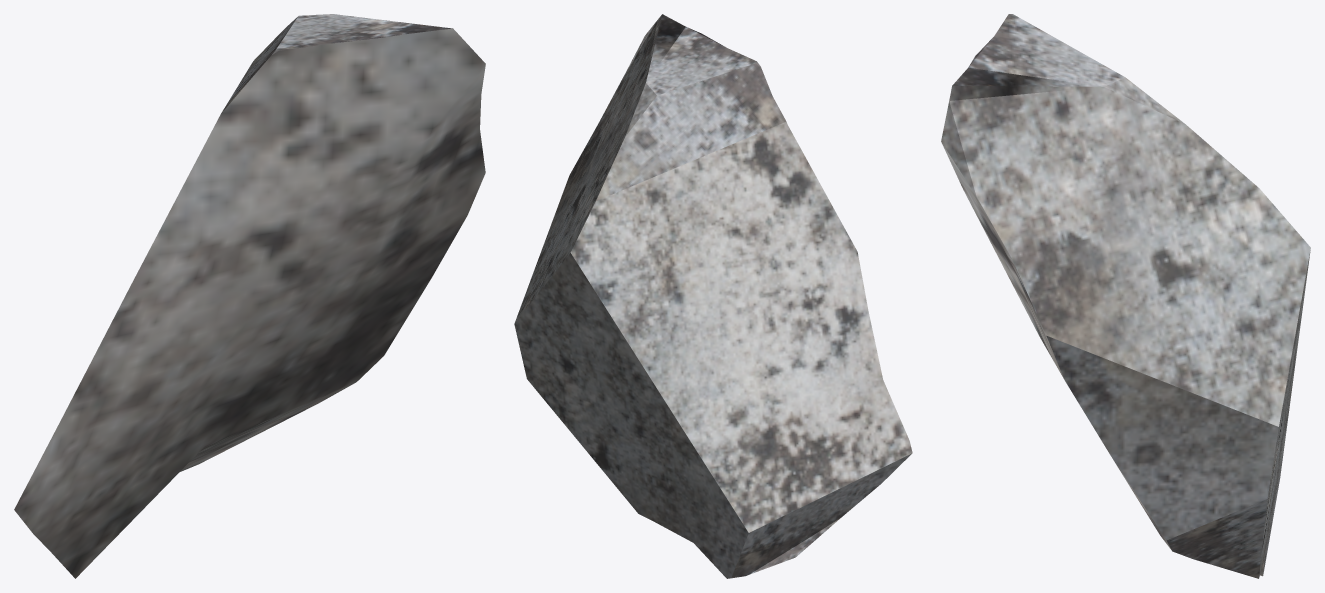
The model's file is Asteroid_Large_001_02_004_03_008.fbx.
3 renders of one model, left to right at view 1: azimuth 30°, elevation 25°; view 2: azimuth 150°, elevation 25°; view 3: azimuth 270°, elevation 25°, orthographic. The views are drawn at different scales.
Parts seen in each view (by area): view 1: Asteroid_Large_001_02_004_03_008; view 2: Asteroid_Large_001_02_004_03_008; view 3: Asteroid_Large_001_02_004_03_008.
Part boxes in pixels (left/top/right/bottom): Asteroid_Large_001_02_004_03_008: left=14, top=14, right=485, bottom=578; Asteroid_Large_001_02_004_03_008: left=514, top=14, right=912, bottom=578; Asteroid_Large_001_02_004_03_008: left=941, top=14, right=1310, bottom=578.
Size of the model in its own units: 8.93 by 10.59 by 5.81.
